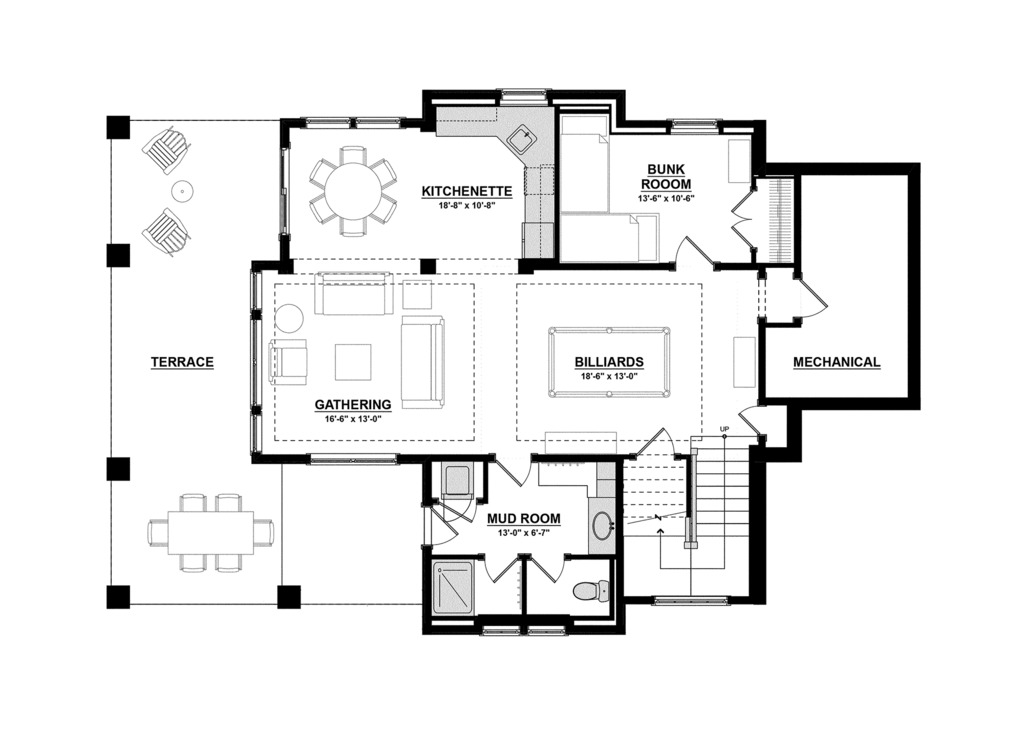dining_table: (143, 493, 274, 580)
door: (730, 188, 757, 248), (794, 279, 830, 322), (674, 237, 718, 271), (491, 455, 531, 489), (533, 551, 565, 586), (484, 553, 515, 584), (737, 400, 761, 437)
large_sink: (569, 574, 612, 606)
large_sofa: (398, 315, 446, 414), (307, 272, 395, 318)
round_table: (309, 145, 398, 239)
sink: (507, 123, 541, 156)
small_sink: (584, 496, 620, 555)
small_sofa: (267, 338, 312, 390)
stairs: (628, 433, 752, 598)
windows: (247, 272, 263, 455), (303, 115, 402, 134), (305, 451, 400, 469), (480, 620, 563, 638), (647, 593, 736, 609), (278, 144, 292, 238), (497, 89, 551, 107), (667, 119, 726, 135)
